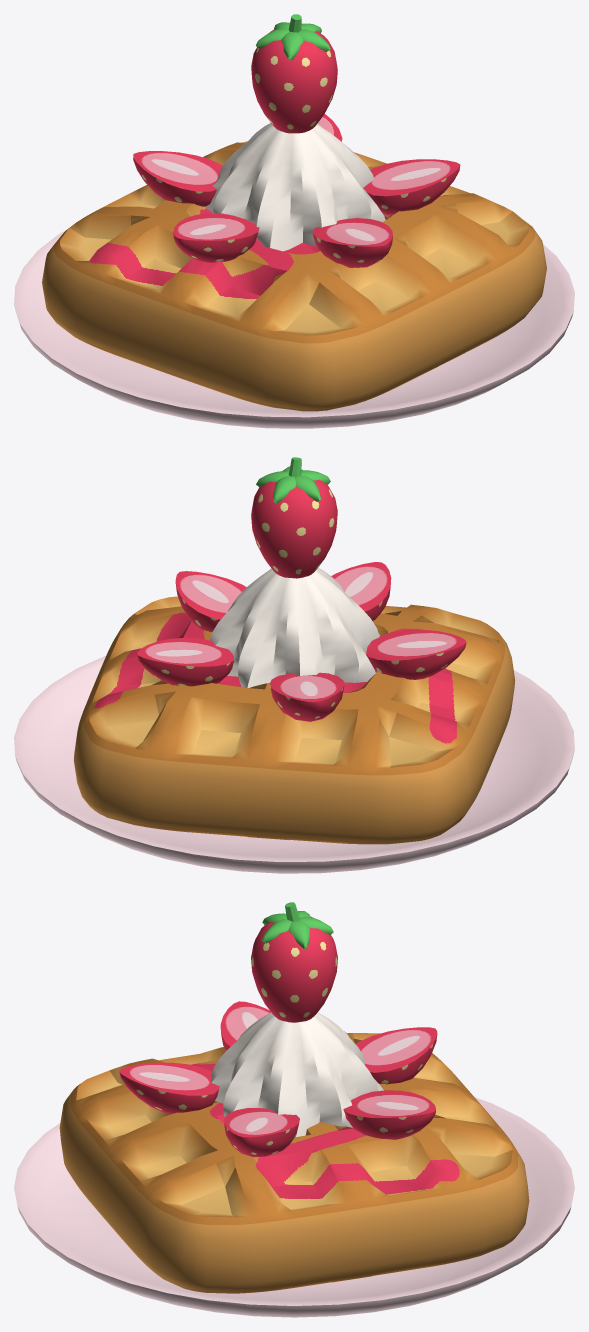
Rendered from StrawberryWaffle.glb.
The picture shows the model from 3 angles, top to bottom: view 1: azimuth 30°, elevation 25°; view 2: azimuth 150°, elevation 25°; view 3: azimuth 270°, elevation 25°; orthographic projection.
Visible parts, largest first — view 1: StrawberryWaffle; view 2: StrawberryWaffle; view 3: StrawberryWaffle.
Part boxes in pixels (x1=…): StrawberryWaffle: x1=14, y1=14, x2=574, y2=428; StrawberryWaffle: x1=14, y1=457, x2=574, y2=873; StrawberryWaffle: x1=14, y1=902, x2=574, y2=1317.
Size of the model in its own units: 1.53 by 0.9742 by 1.53.
7 materials, 7 textured.
